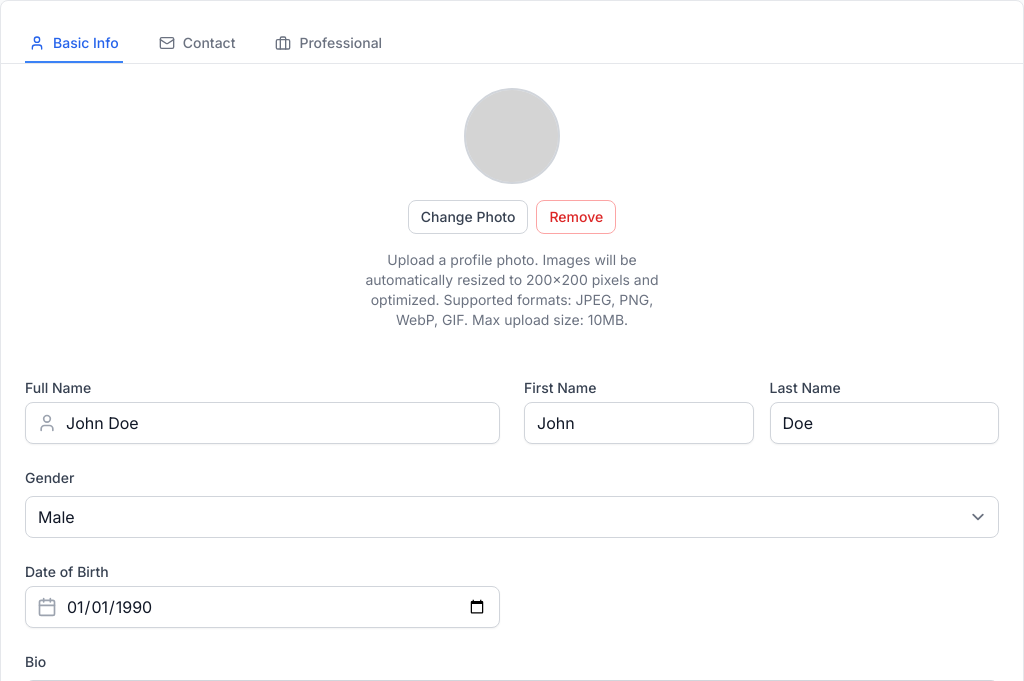
Test: ProfileForm › switches between form sections
The width and height of the screenshot is (1024, 681).
Expected: the field showing "John Doe" is shown, [25,402,500,444]
// Click on Contact tab
Click the button "Contact": (197, 44) [155,25,240,63]
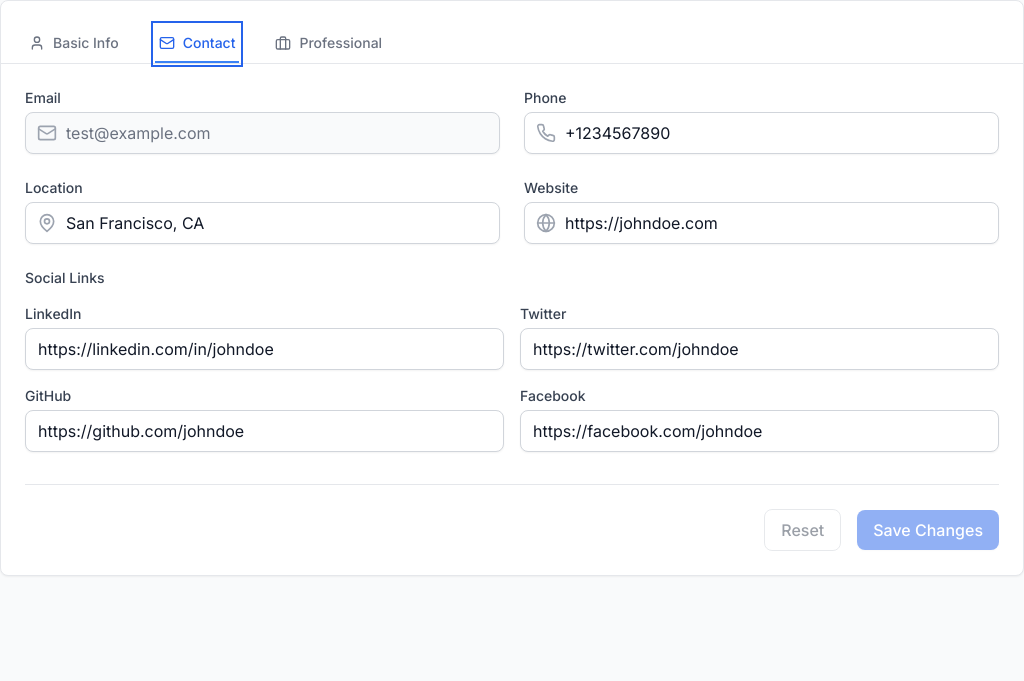
Result: the field showing "test@example.com" is shown at [25,112,500,154]
Result: the field showing "San Francisco, CA" is shown at [25,202,500,244]
// Click on Professional tab
Click the button "Professional": (329, 44) [271,25,386,63]
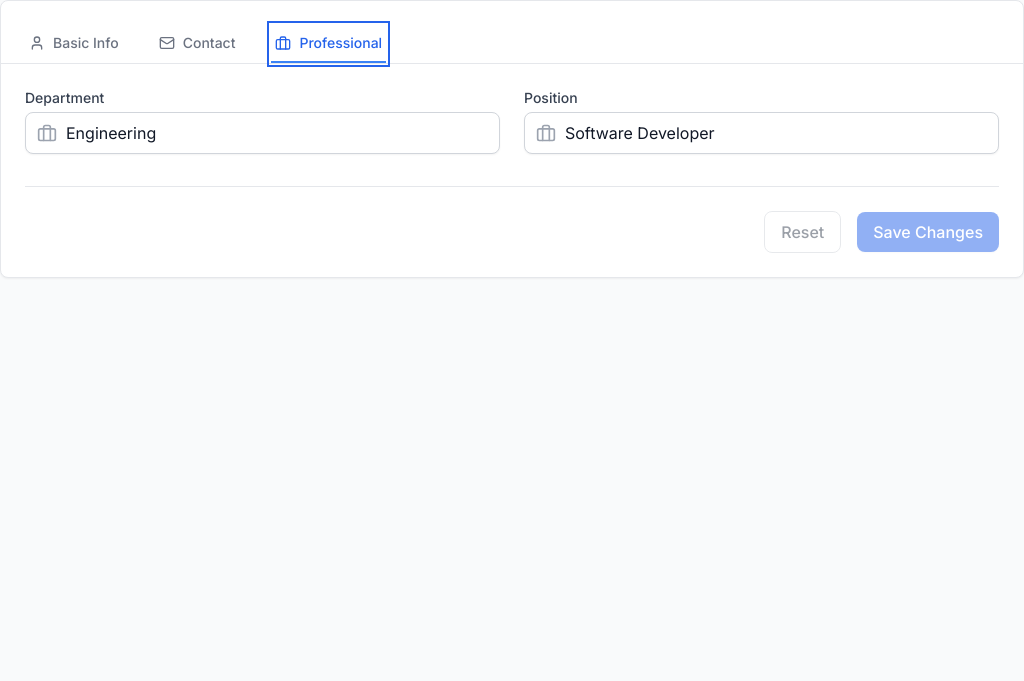
Result: the field showing "Engineering" is shown at [25,112,500,154]
Result: the field showing "Software Developer" is shown at [524,112,999,154]
